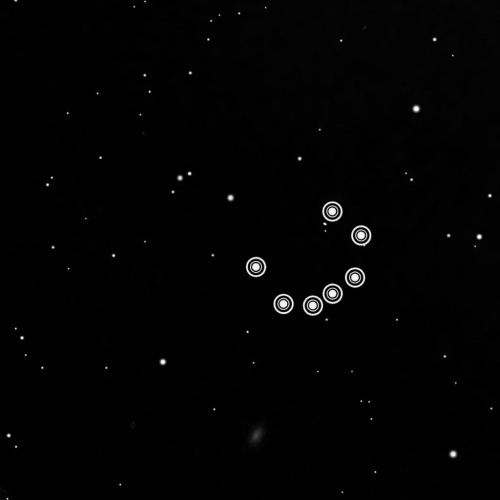corona_borealis: (242, 194, 375, 324)
